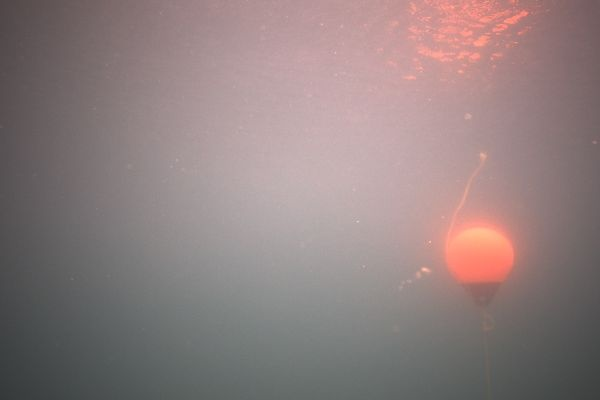buoy: (444, 225, 514, 305)
